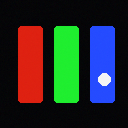2 circle: (98, 73, 110, 85)
